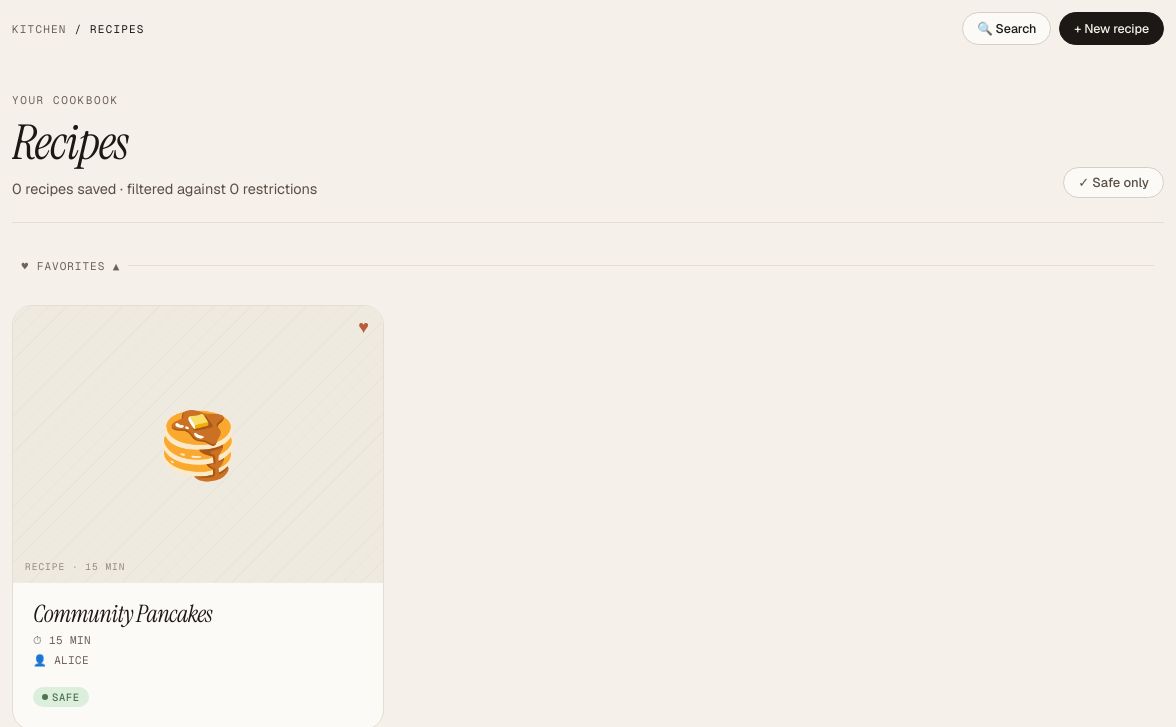
it: RecipesScreen – favorites section › shows "Save to favorites" in detail when recipe is not in favoriteIds
Click the text "Community Pancakes".
click(122, 614)  # box left=33, top=598, right=212, bottom=630
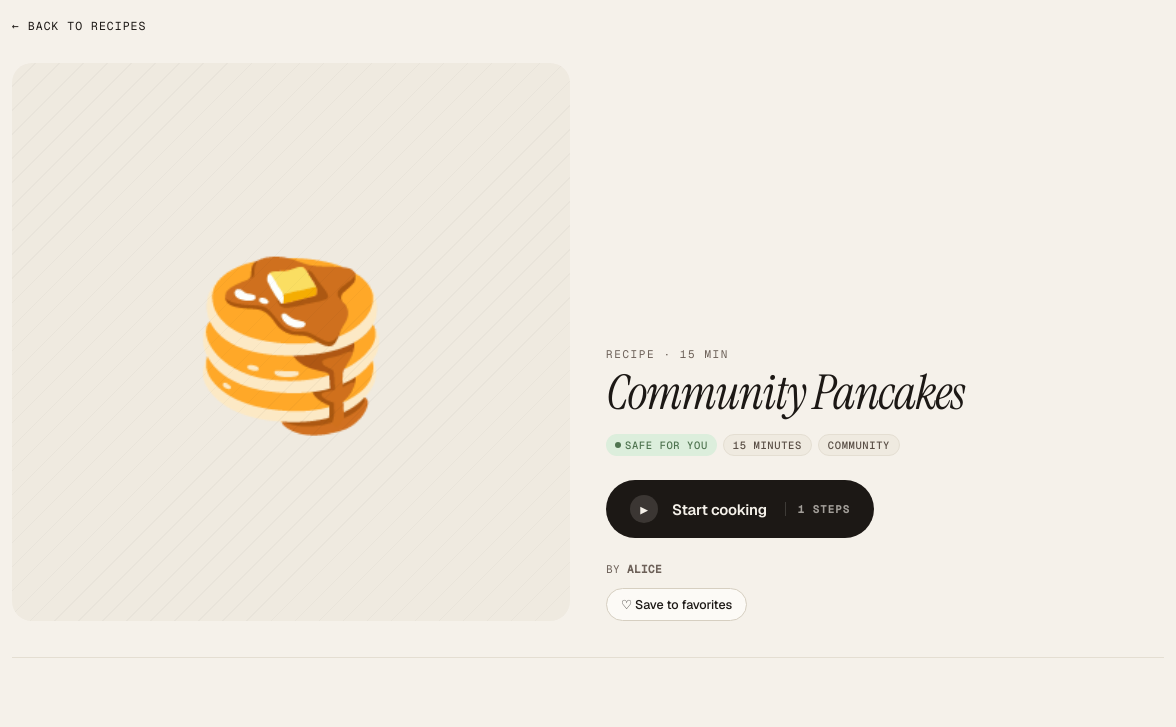
Result: the button "♡ Save to favorites" is shown at left=606, top=588, right=747, bottom=621
